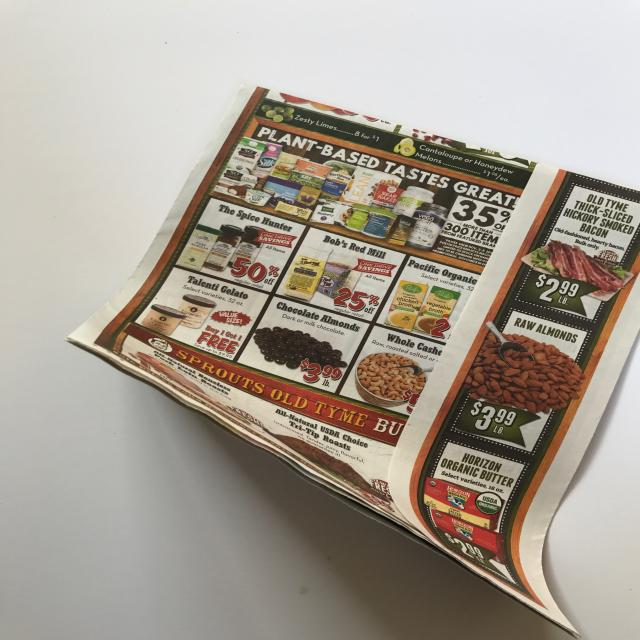paper: (36, 75, 640, 640)
